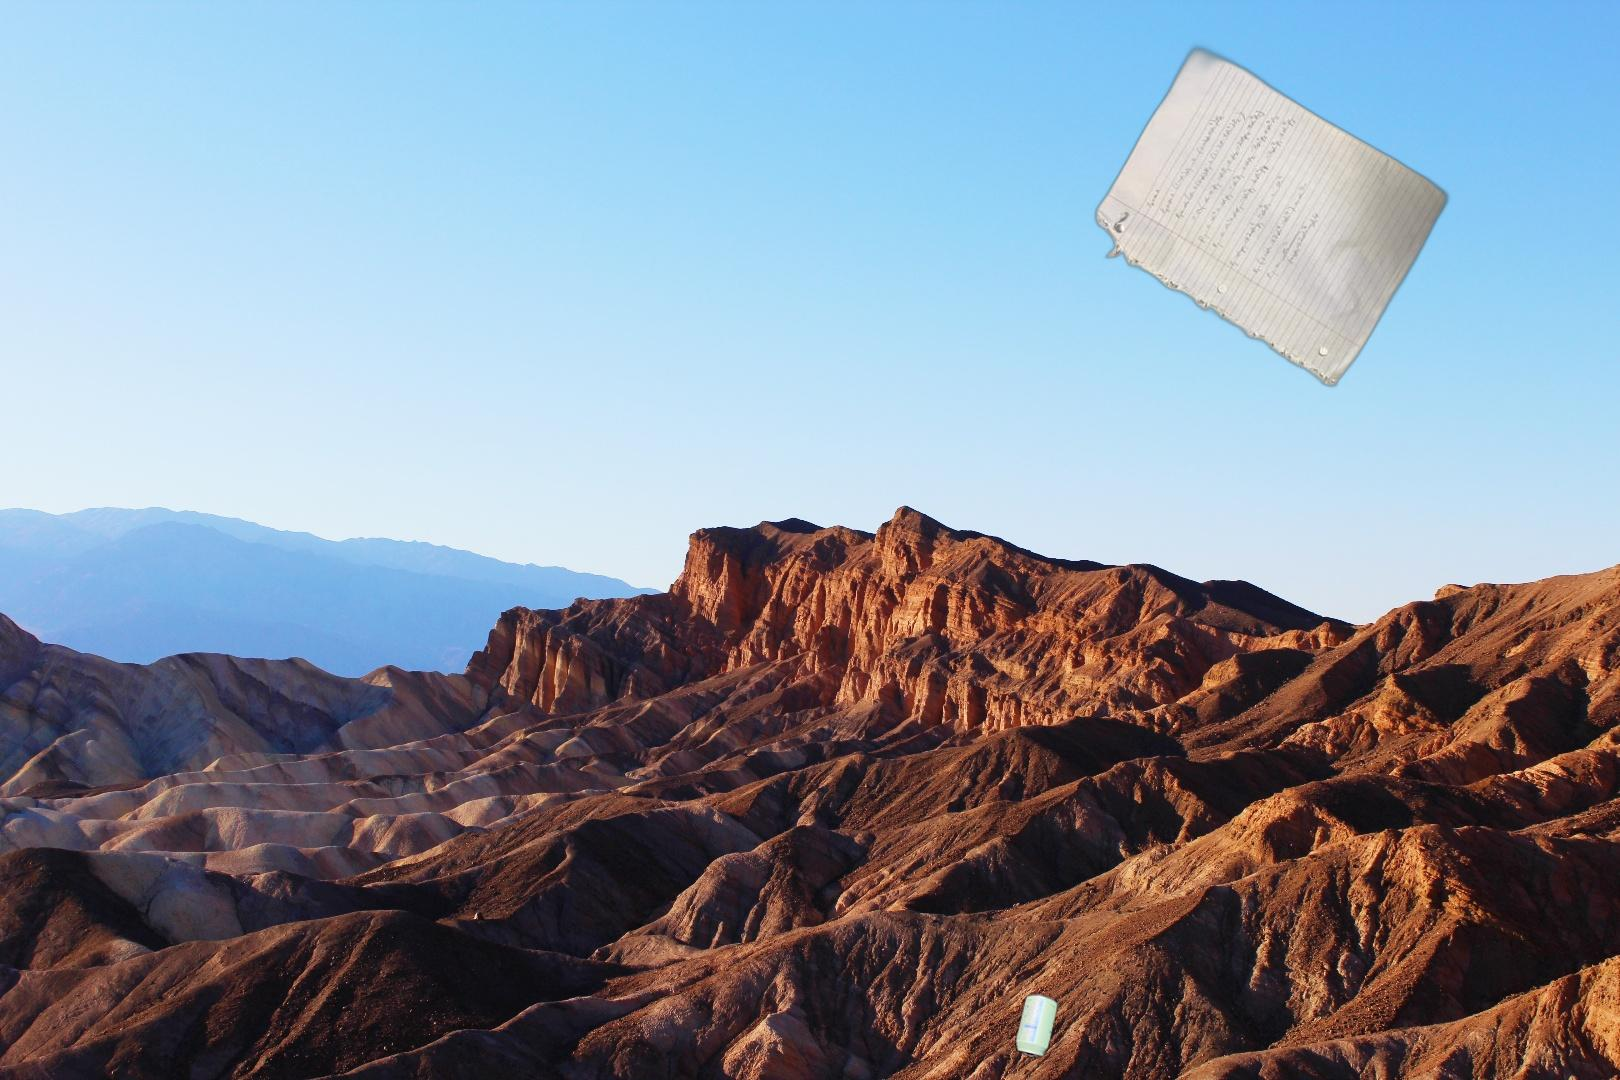metal-cans: (1012, 987, 1062, 1066)
paper: (1092, 39, 1452, 391)
